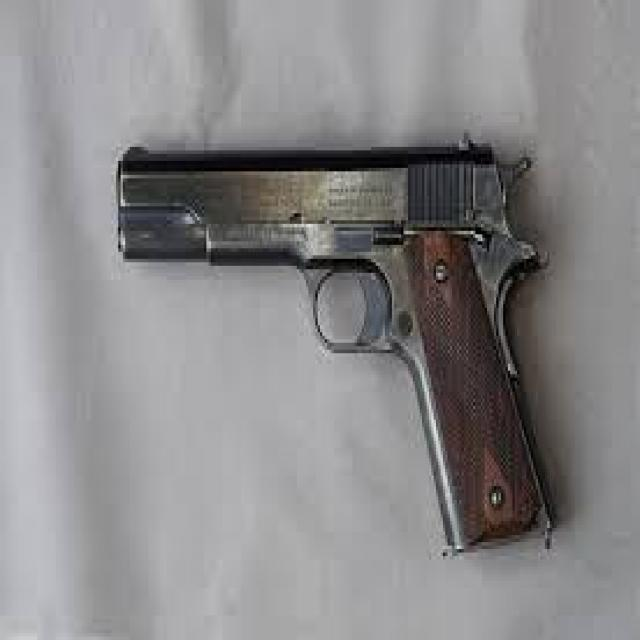semi automatic: (109, 128, 578, 570)
